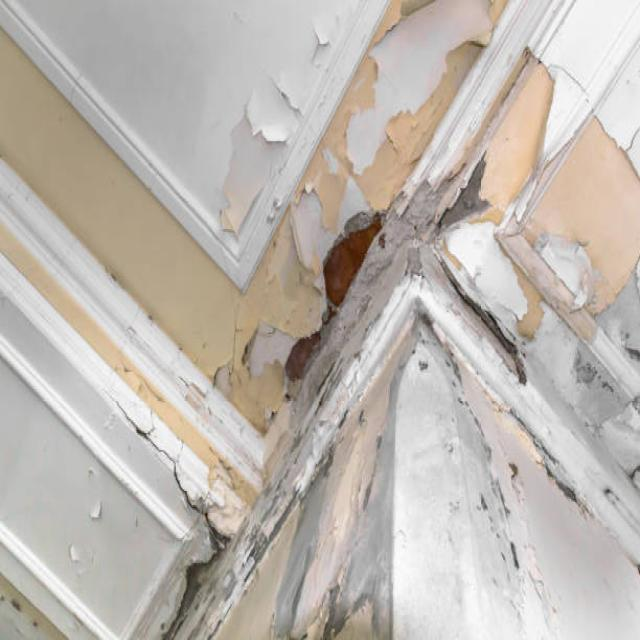Crack: (108, 388, 236, 563)
